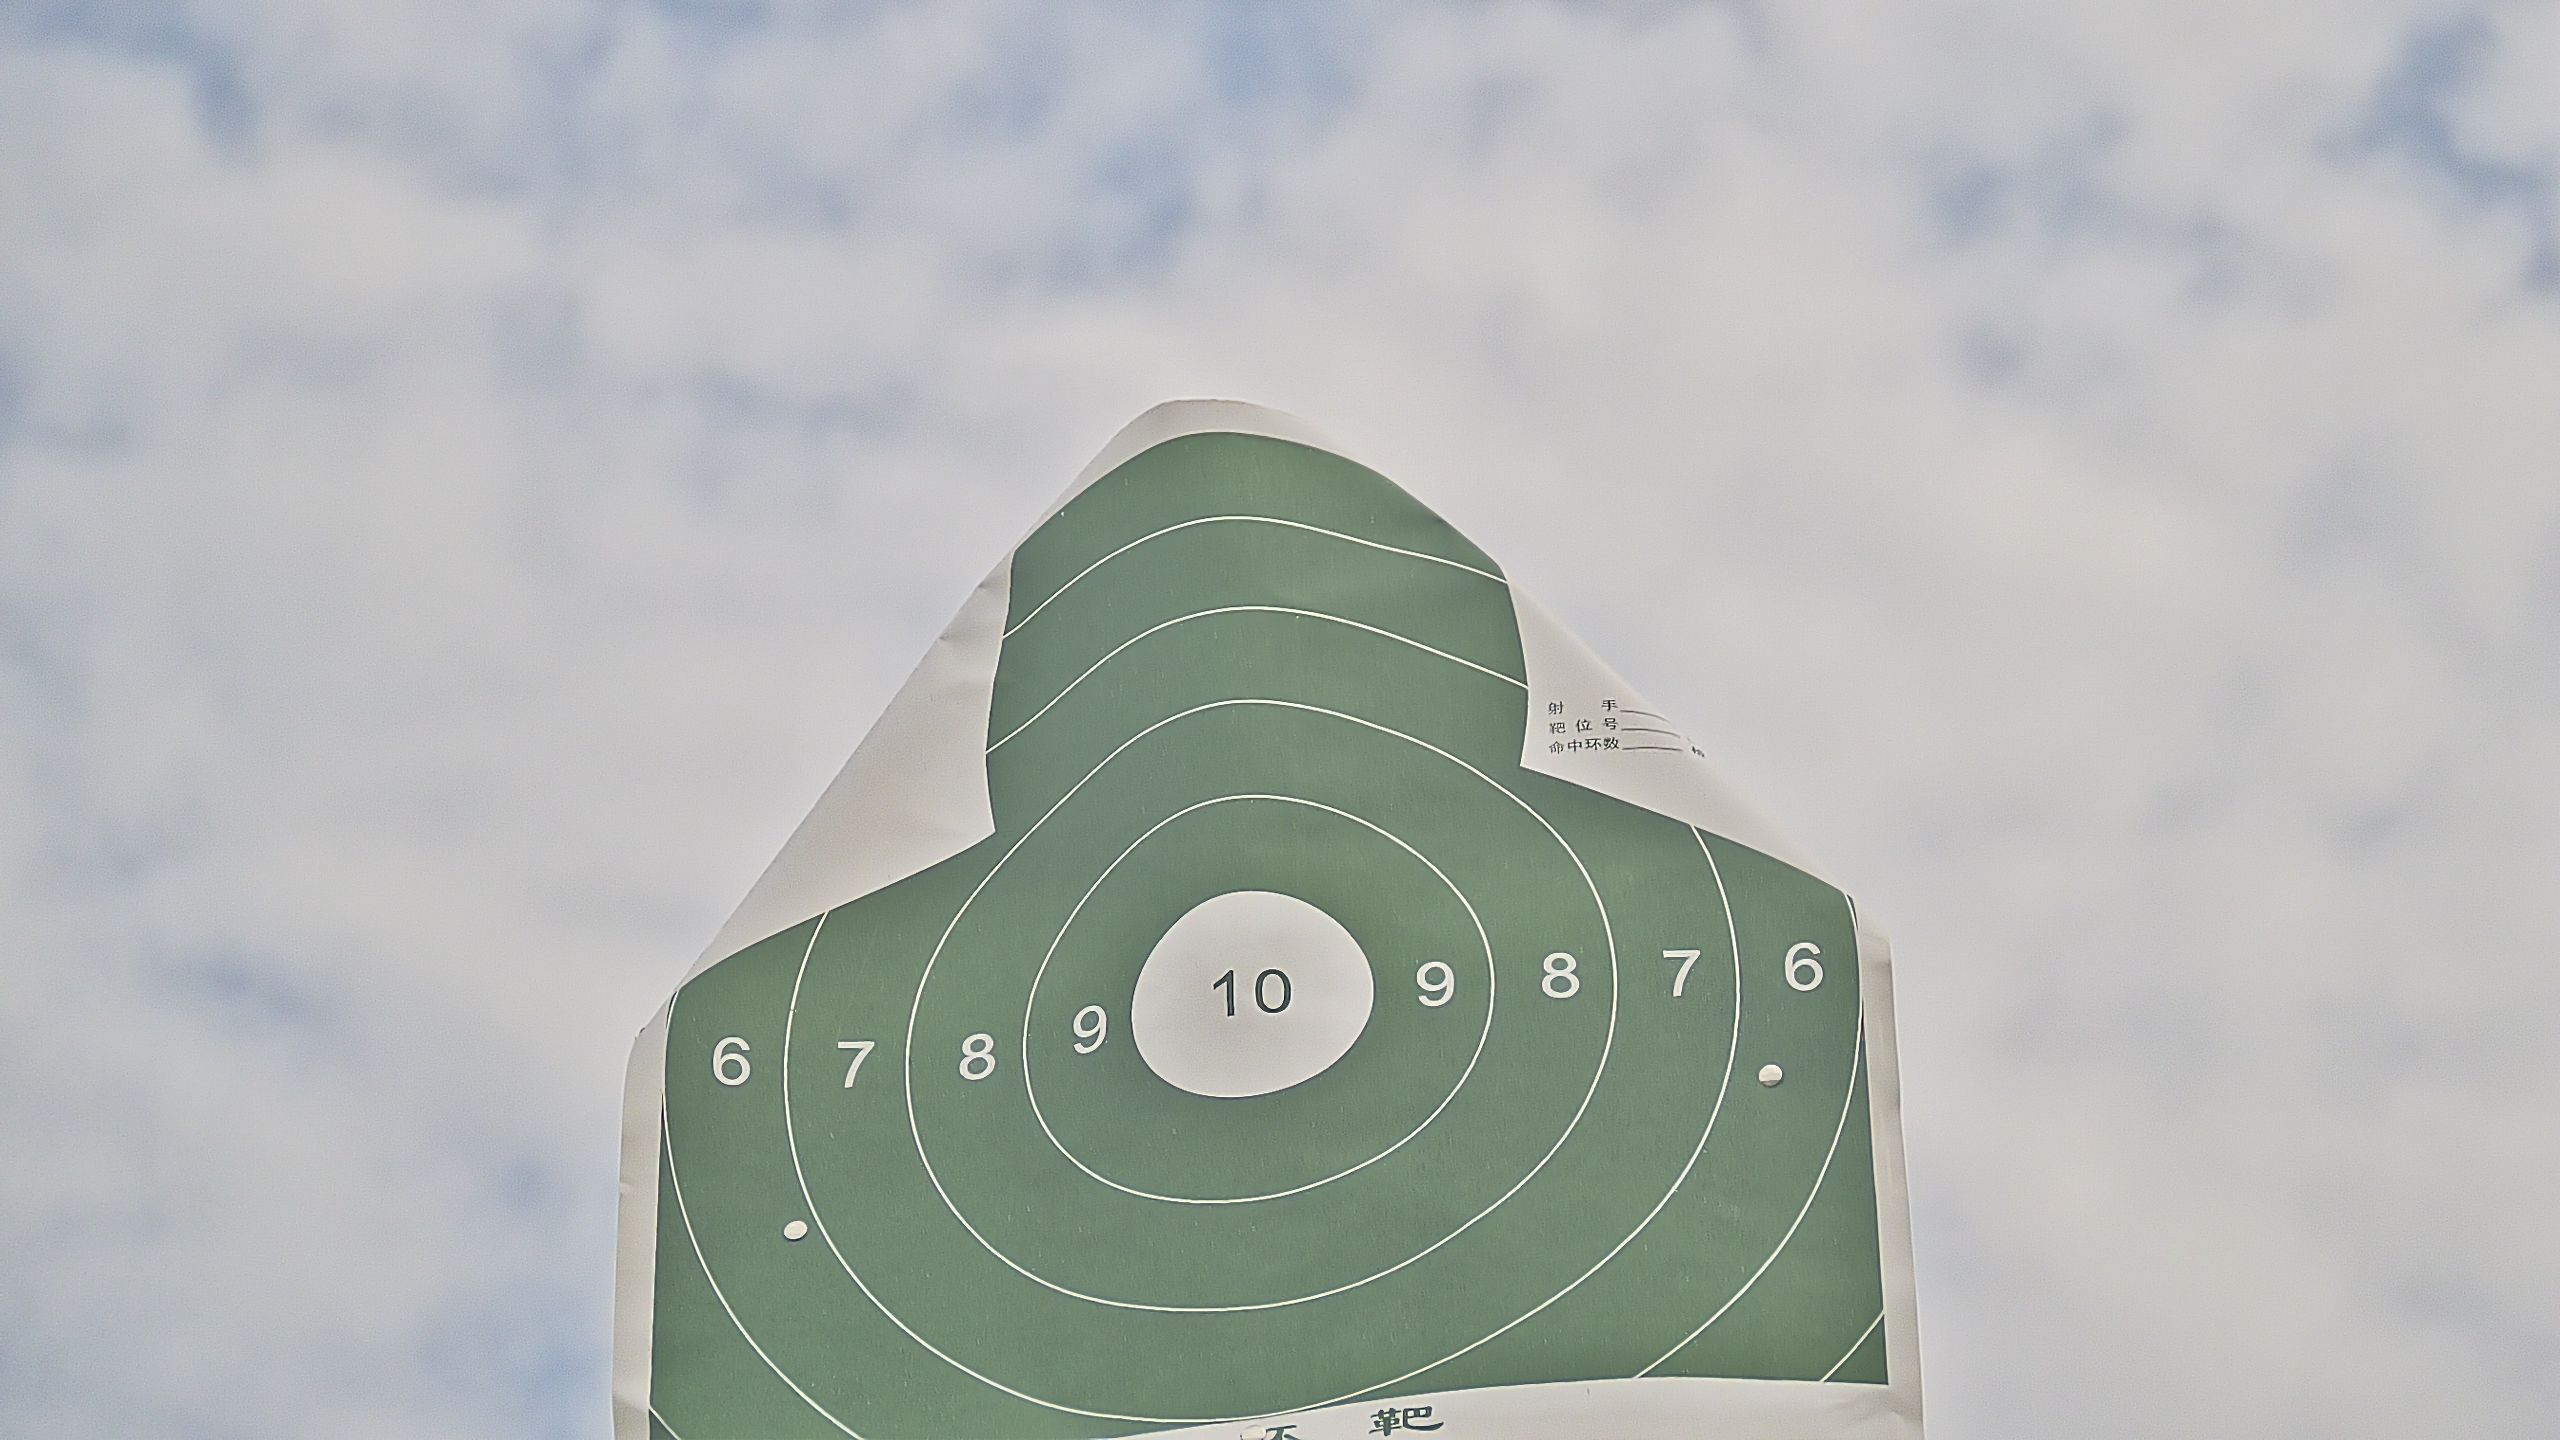kernel: (1241, 993, 1247, 997)
target: (649, 438, 1887, 1440)
ten: (1129, 888, 1377, 1097)
